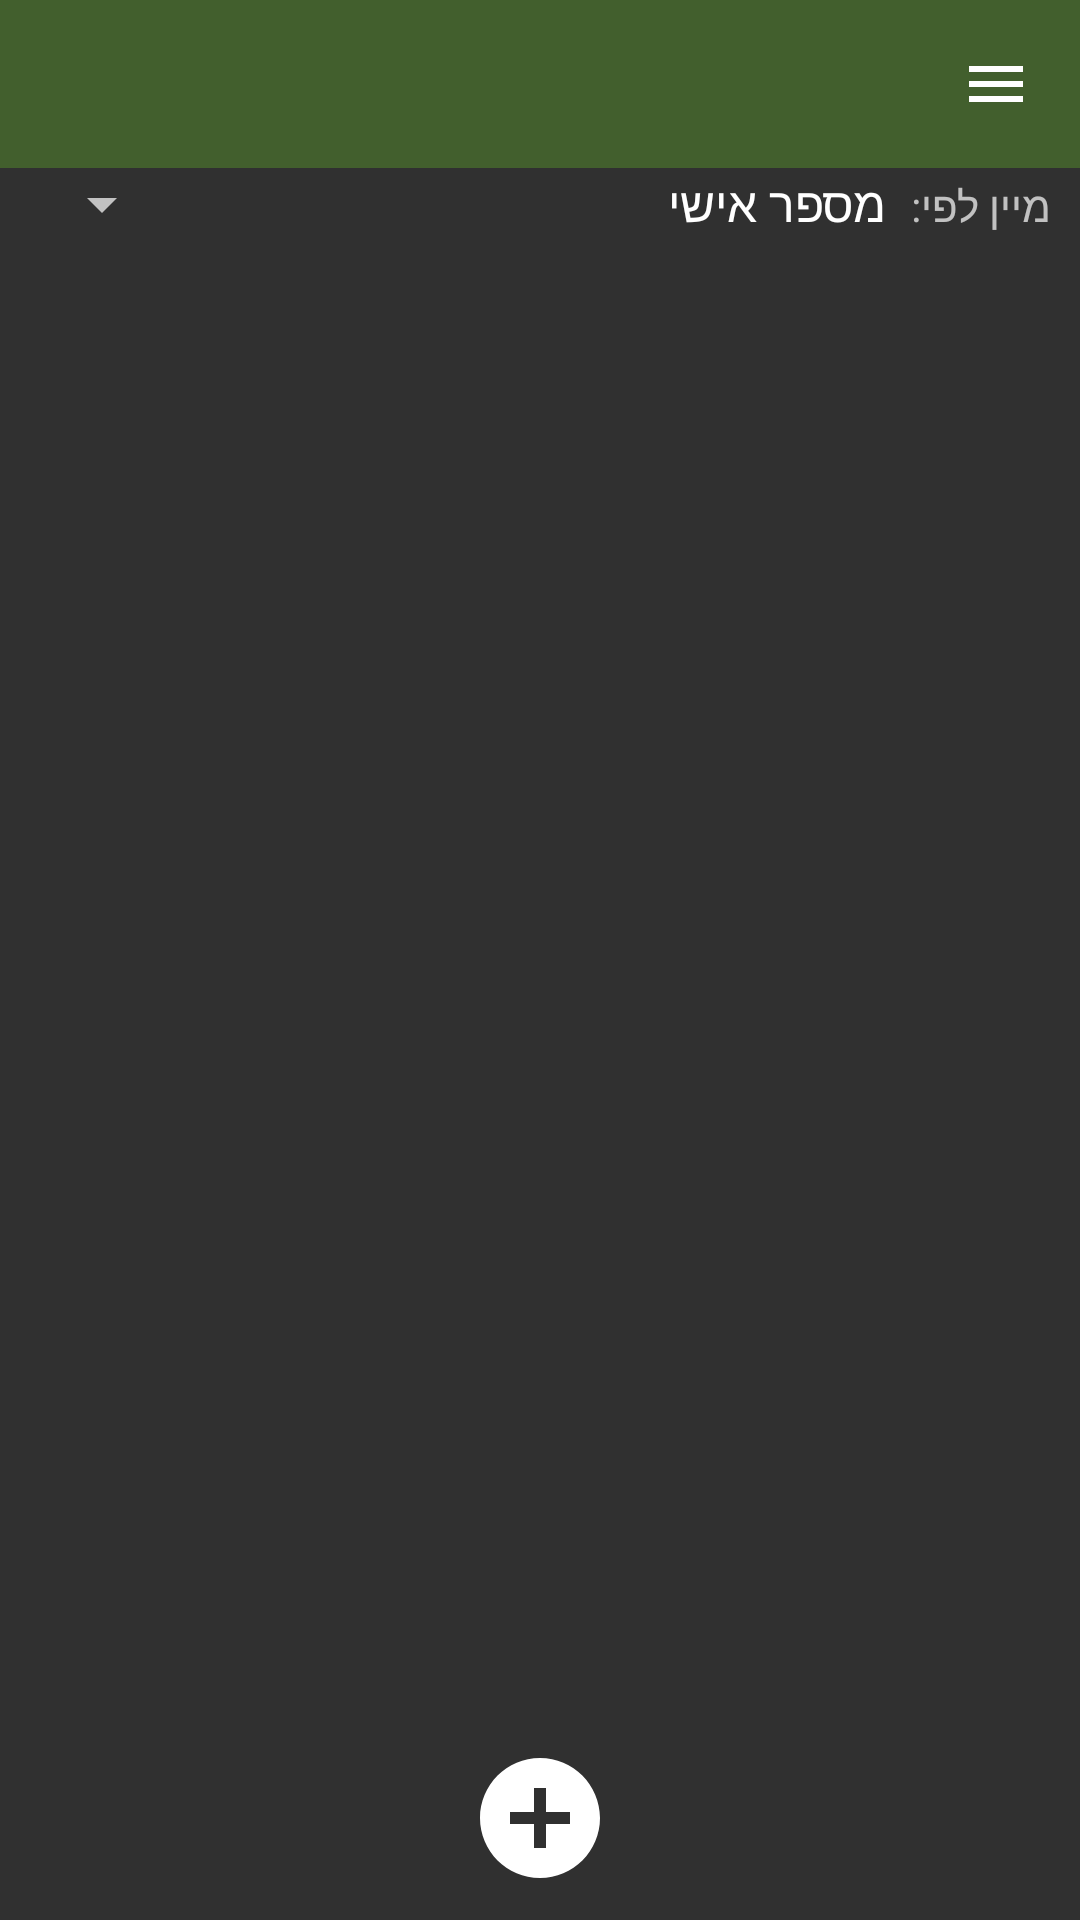

Screen size 1080w x 1920h. Icon name, then its center in pixels as (x,y):
add circle: (540,1818)
